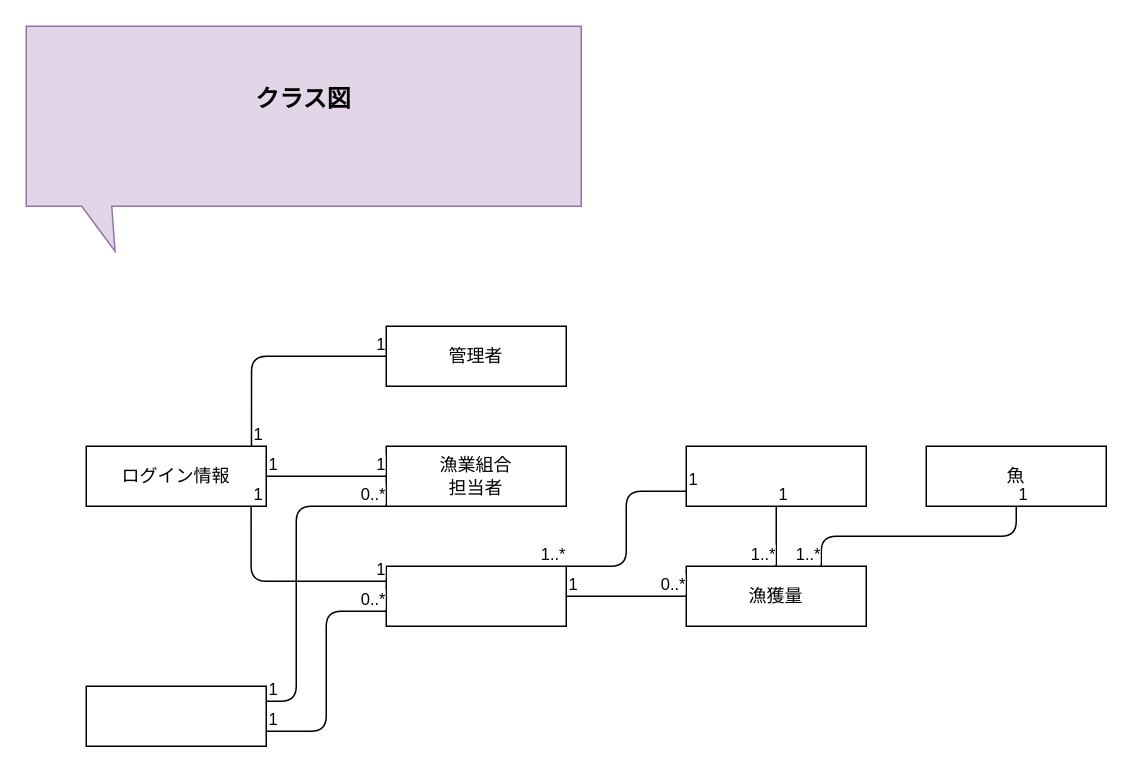
The diagram is 1133 pixels wide and 773 high, and some of its shapes have lost their labels. Here are the shapes that lost their labels. From the top down, the box of each, then its label:
(685, 445, 866, 506): 漁法
(385, 565, 566, 626): 漁業者
(85, 685, 266, 746): 漁業組合
